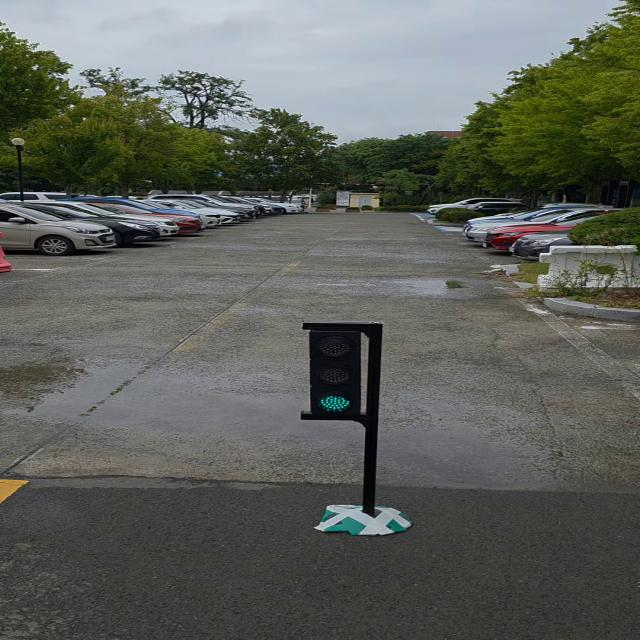green: (308, 324, 375, 422)
